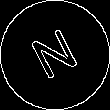N_SE: (26, 24, 84, 86)
